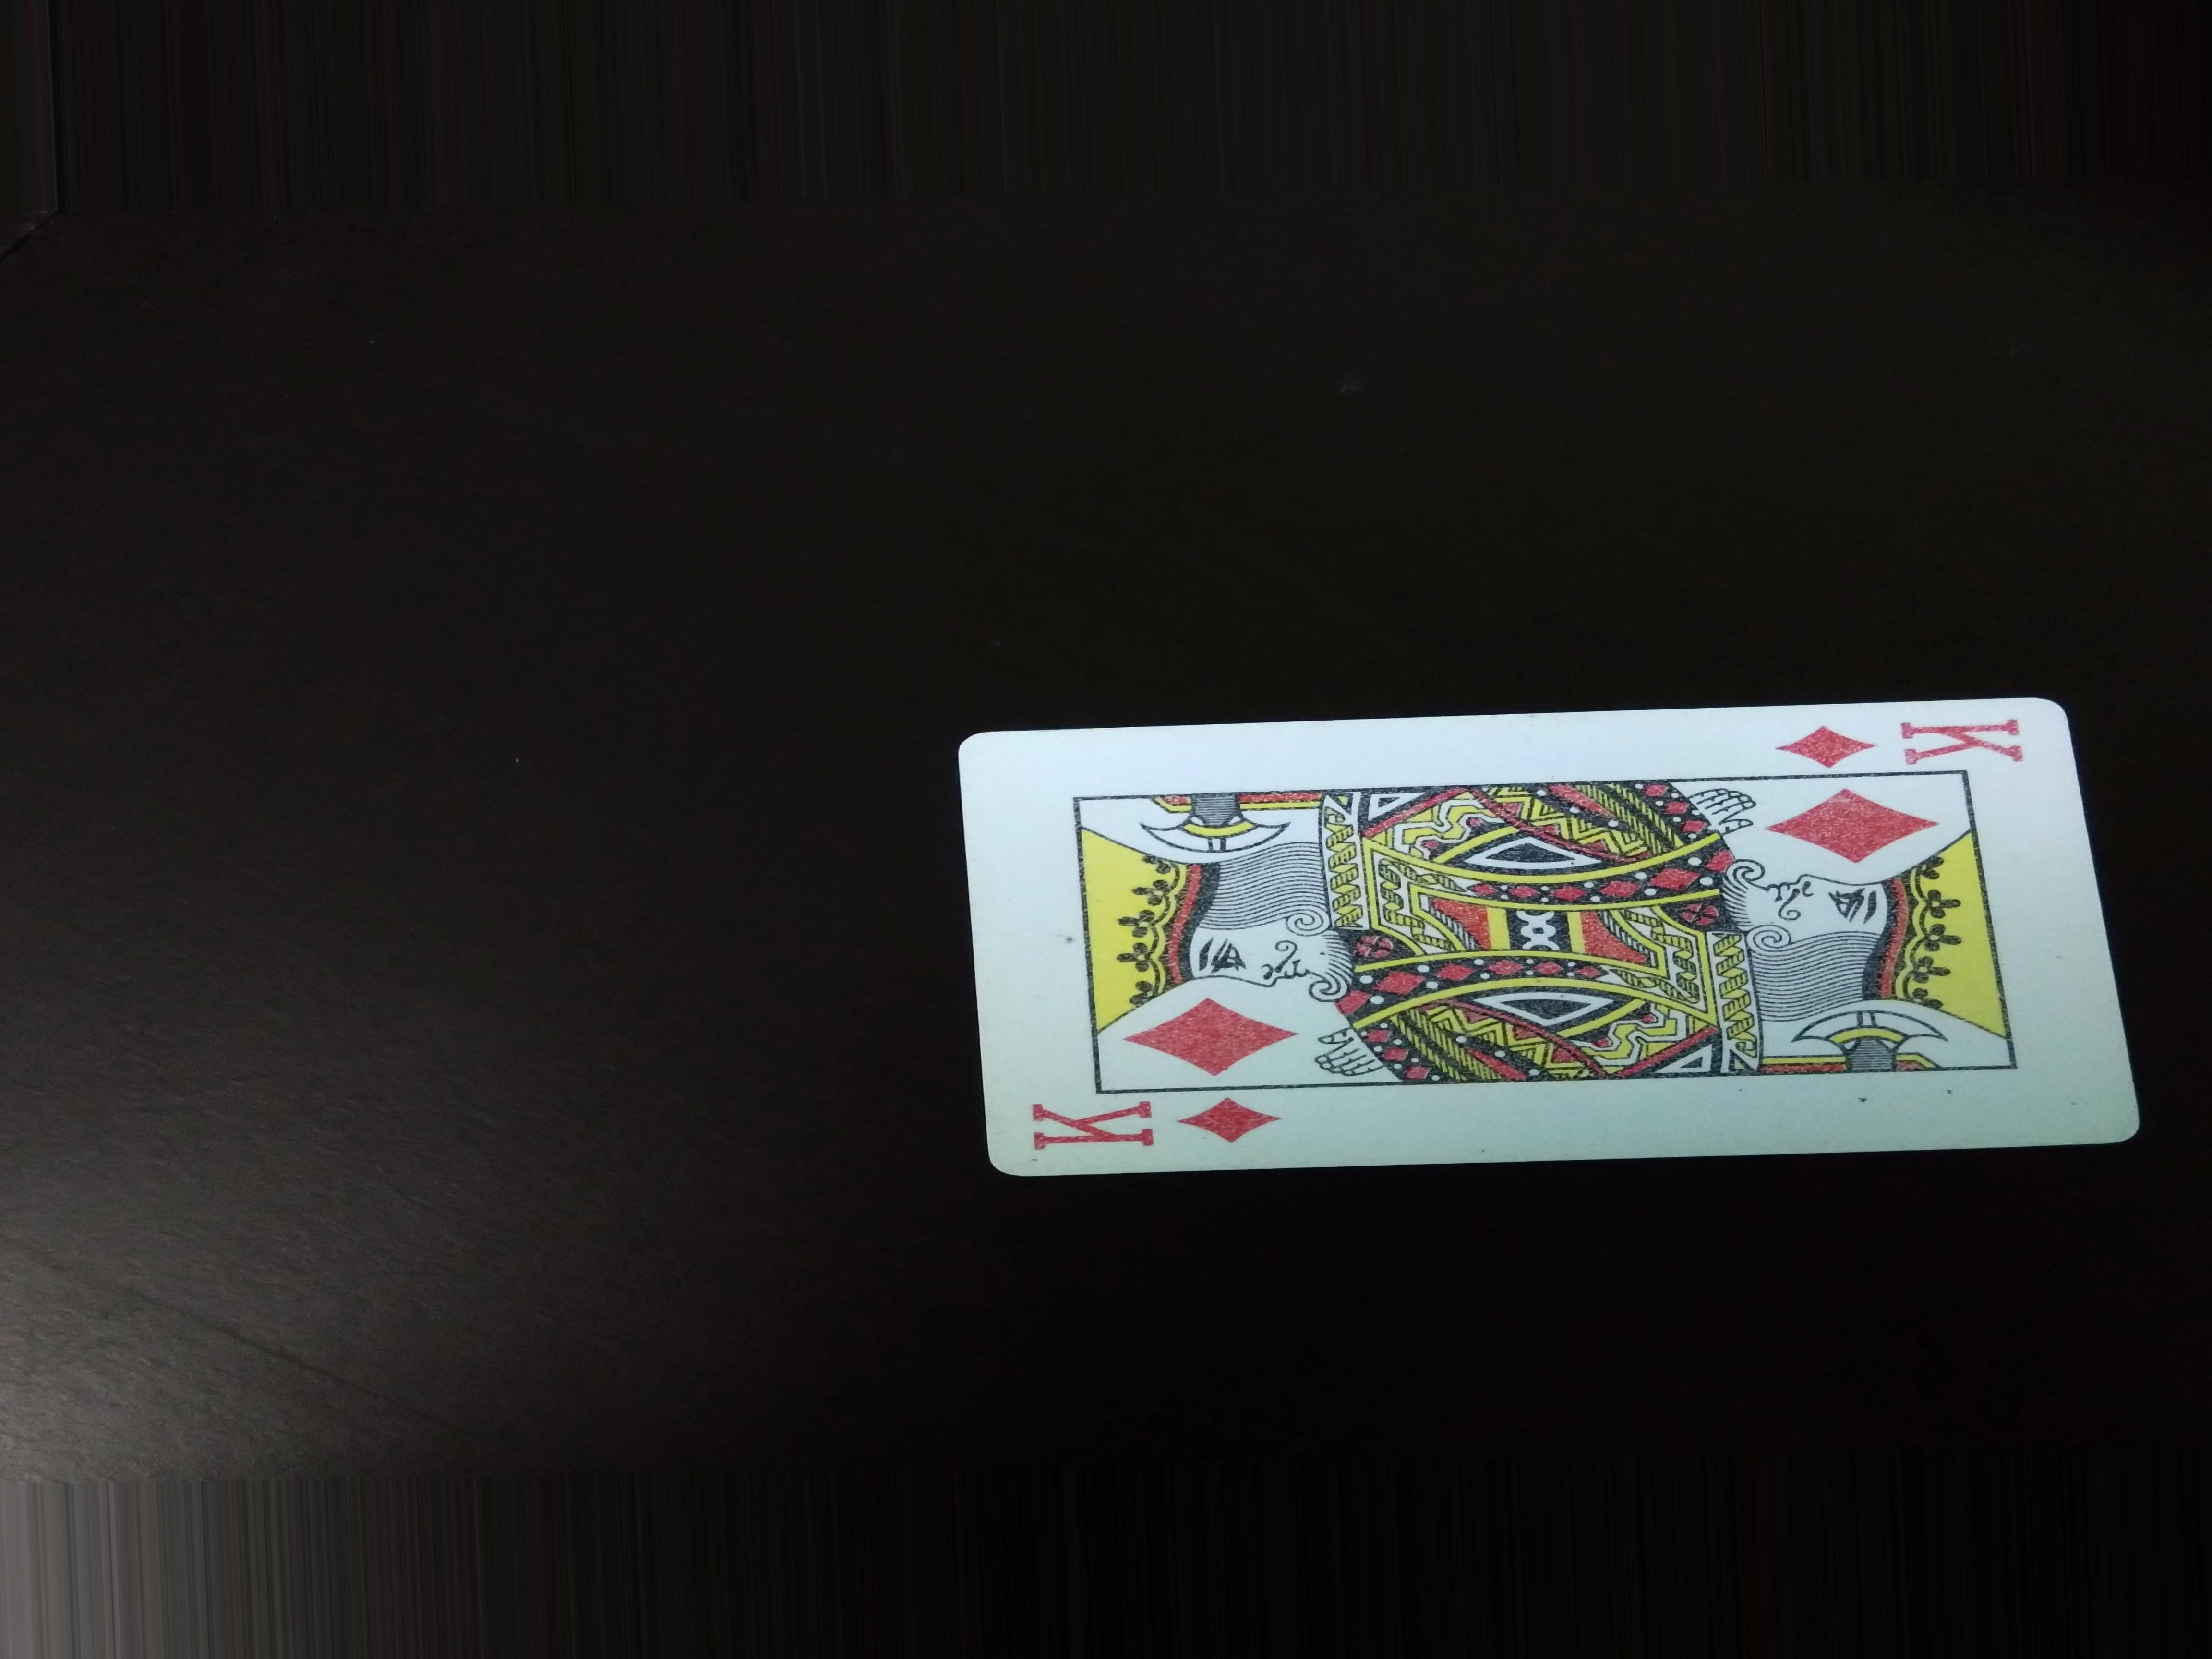KD: (1021, 1093, 1280, 1169)
